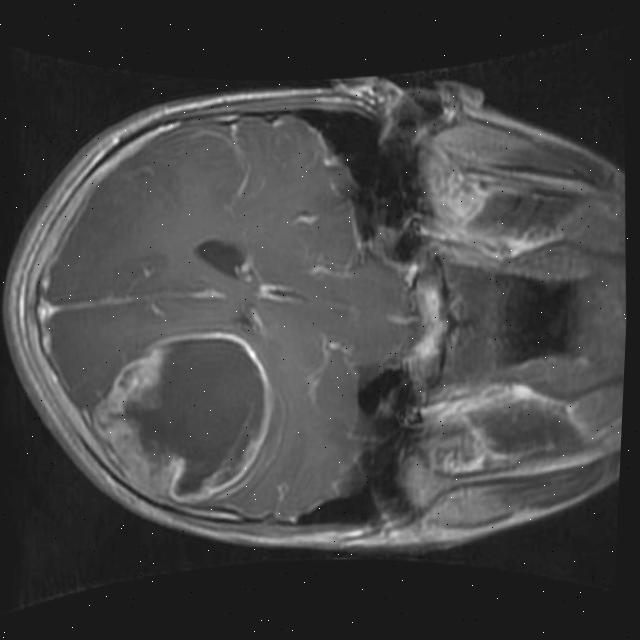Glioma: (83, 322, 282, 510)
